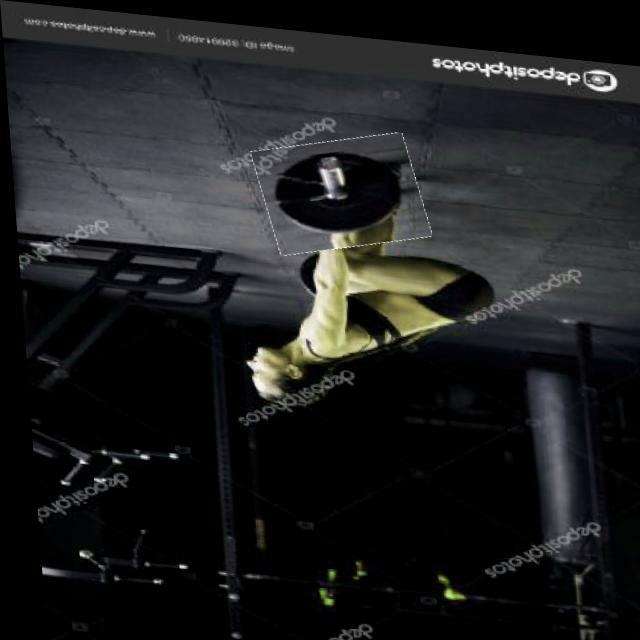barbell: (252, 121, 425, 253)
